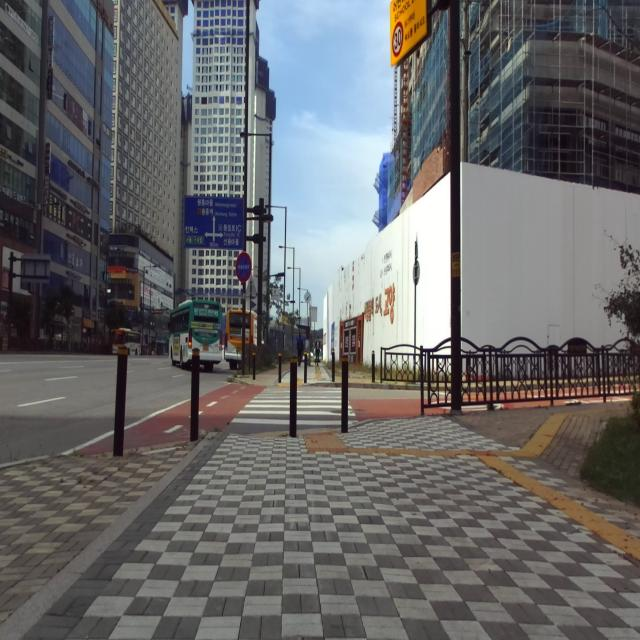횡단보도: (231, 386, 360, 425)
